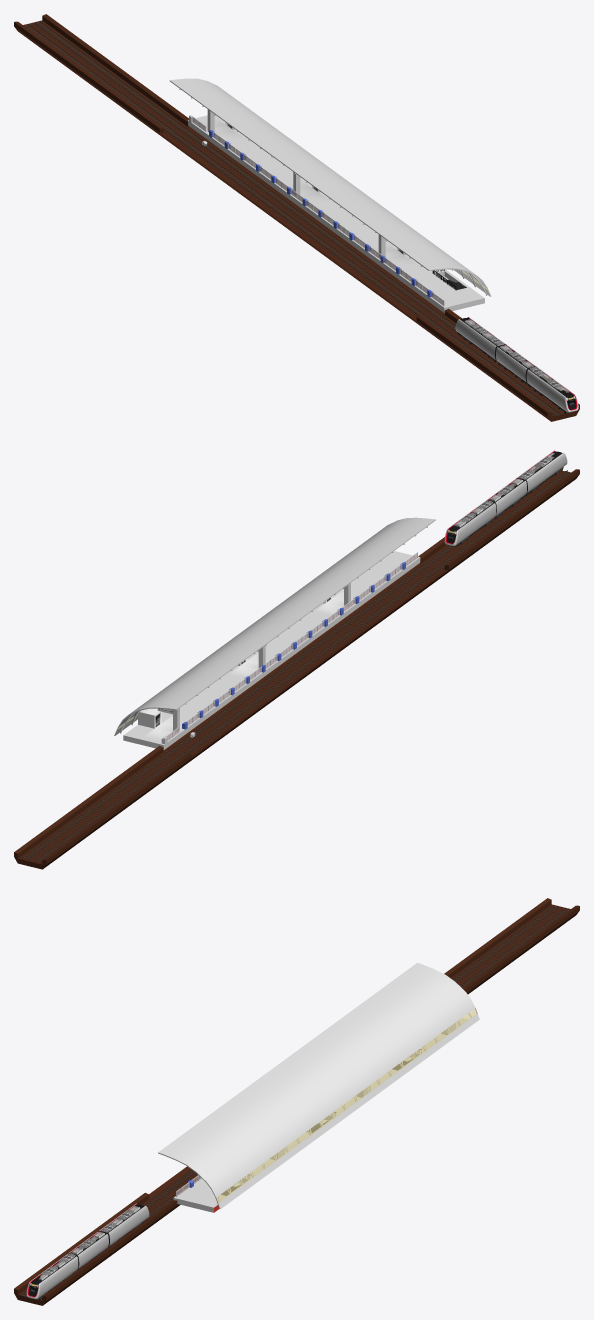
The model's file is LRT Animated.fbx.
3 renders of one model, top to bottom at view 1: azimuth 30°, elevation 25°; view 2: azimuth 150°, elevation 25°; view 3: azimuth 330°, elevation 25°, orthographic.
Visible parts, largest first — view 1: Rel.001, Cube.030, Cube.029, Rel, Cube.039, Cube.018, Cube.006, Cube.021; view 2: Rel.001, Cube.030, Cube.029, Rel, Cube.039, Cube.006, Cube.018, Cube.021; view 3: Cube.030, Rel.001, Cube.029, Rel, Cube.018, Cube.006, Cube.021.
Boxes of the visible parts, bbox=[...] form: Rel.001: bbox=[14, 14, 579, 421]; Cube.030: bbox=[169, 78, 491, 296]; Cube.029: bbox=[188, 109, 484, 312]; Rel: bbox=[25, 21, 568, 416]; Cube.039: bbox=[209, 130, 444, 306]; Cube.018: bbox=[526, 367, 578, 412]; Cube.006: bbox=[455, 317, 506, 360]; Cube.021: bbox=[496, 345, 536, 382]; Rel.001: bbox=[14, 469, 579, 869]; Cube.030: bbox=[114, 517, 435, 735]; Cube.029: bbox=[123, 551, 420, 749]; Rel: bbox=[22, 470, 570, 862]; Cube.039: bbox=[182, 552, 417, 729]; Cube.006: bbox=[444, 500, 496, 546]; Cube.018: bbox=[516, 450, 567, 493]; Cube.021: bbox=[486, 478, 527, 515]; Cube.030: bbox=[158, 962, 479, 1209]; Rel.001: bbox=[14, 898, 579, 1305]; Cube.029: bbox=[173, 1018, 468, 1212]; Rel: bbox=[19, 905, 568, 1300]; Cube.018: bbox=[26, 1253, 78, 1299]; Cube.006: bbox=[98, 1203, 149, 1246]; Cube.021: bbox=[68, 1231, 108, 1268].
Bounding box in the file's own units: 15658 × 10651 × 194102.
